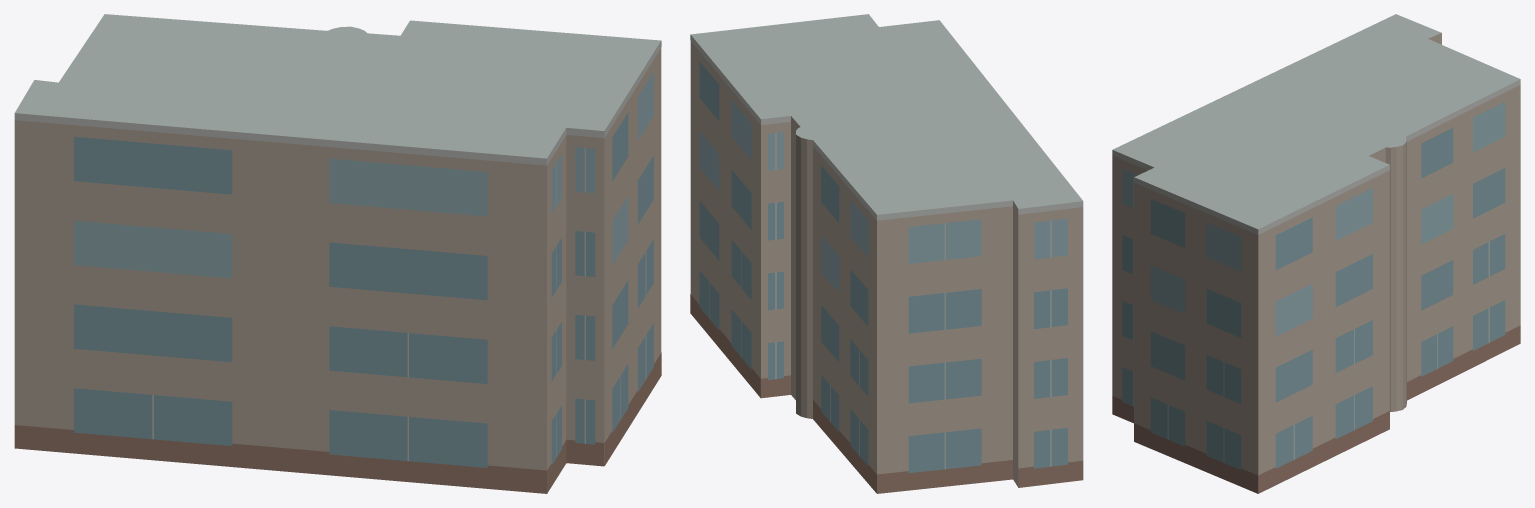
File: survey-upis-32829871.glb
3 views of the same model, side by side, from view 1: azimuth 30°, elevation 25°; view 2: azimuth 150°, elevation 25°; view 3: azimuth 270°, elevation 25° (orthographic). The views are drawn at different scales.
Parts seen in each view (by area): view 1: survey-upis-32829871.tmp; view 2: survey-upis-32829871.tmp; view 3: survey-upis-32829871.tmp.
Part boxes in pixels (box(x1,y1,x2,y2)): survey-upis-32829871.tmp: box(14, 14, 661, 493); survey-upis-32829871.tmp: box(690, 14, 1083, 493); survey-upis-32829871.tmp: box(1112, 14, 1520, 493).
Bounding box in the file's own units: 20.44 × 11.7 × 16.37.
